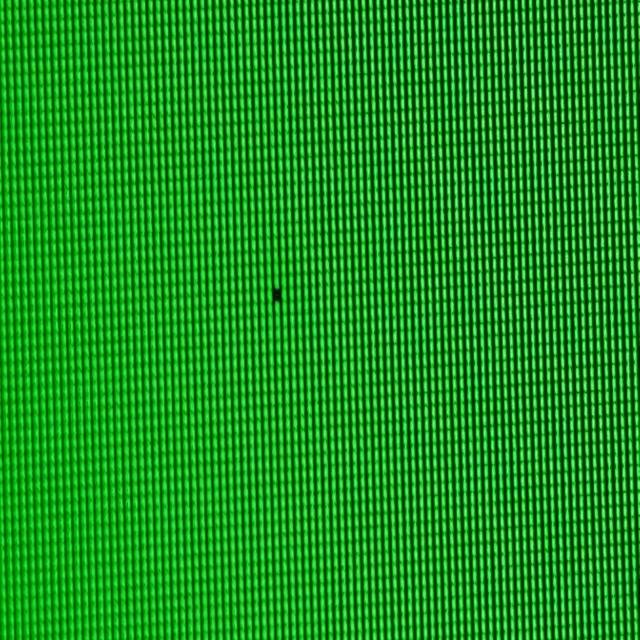Dead pixel: (272, 286, 282, 303)
